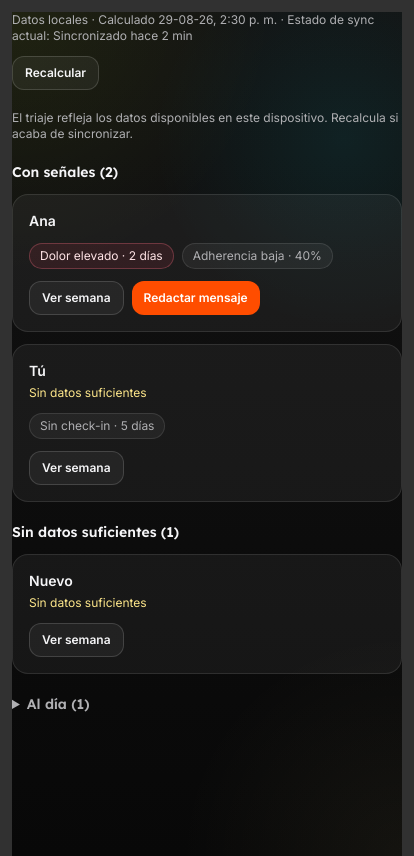
Test case: CoachAssistantPanel › recalcular limpia un bloqueo de clase y permite comprobarlo de nuevo
Click the button with test id "draft-ath_a". click: (196, 298)
box: x1=132 y1=281 x2=260 y2=315
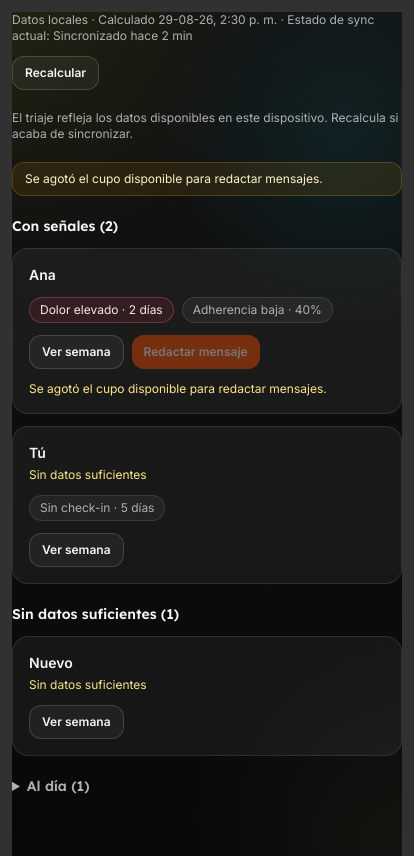
Check: the button with test id "draft-ath_a" is disabled, box x1=132 y1=335 x2=260 y2=369
Click the button "Recalcular". click: (56, 73)
box: x1=12 y1=56 x2=99 y2=90
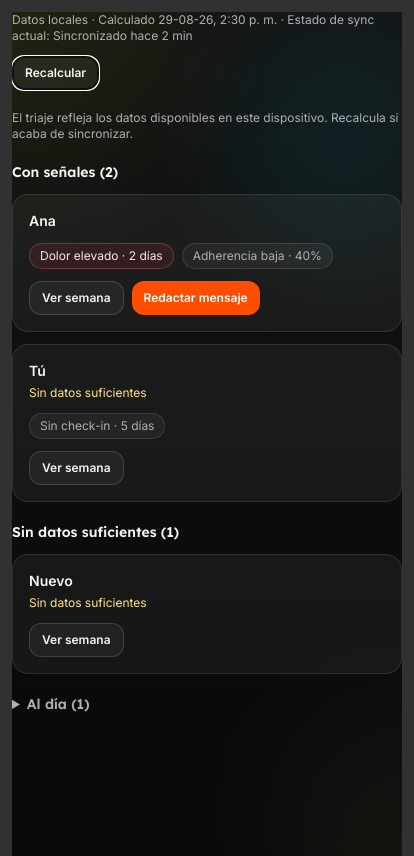
Check: the button with test id "draft-ath_a" is enabled, box x1=132 y1=281 x2=260 y2=315
Check: the message with test id "draft-global-error" is gone
